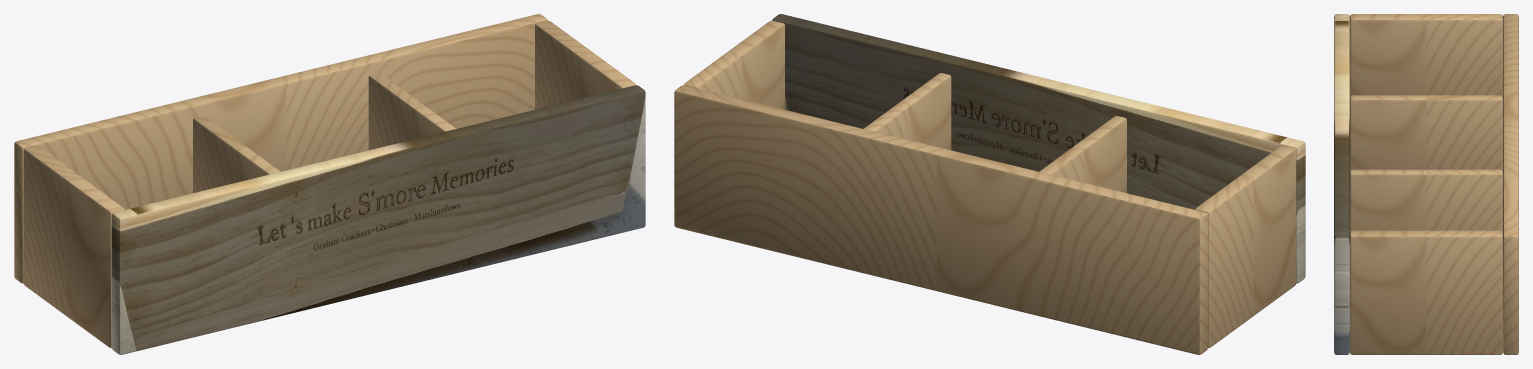
The model's file is smores-caddy.glb.
3 views of the same model, side by side, from view 1: azimuth 30°, elevation 25°; view 2: azimuth 150°, elevation 25°; view 3: azimuth 270°, elevation 25° (orthographic). The views are drawn at different scales.
Visible parts, largest first — view 1: S'mores caddy; view 2: S'mores caddy; view 3: S'mores caddy.
Boxes of the visible parts, bbox=[...] form: S'mores caddy: bbox=[14, 14, 645, 354]; S'mores caddy: bbox=[674, 14, 1305, 354]; S'mores caddy: bbox=[1334, 14, 1518, 354].
Size of the model in its own units: 0.4 by 0.1 by 0.14.
Materials: 2 (2 with a texture image).
